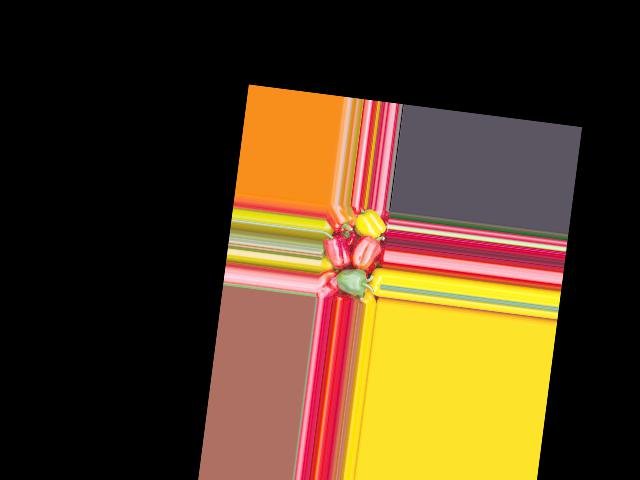bell_pepper: (351, 207, 389, 241)
